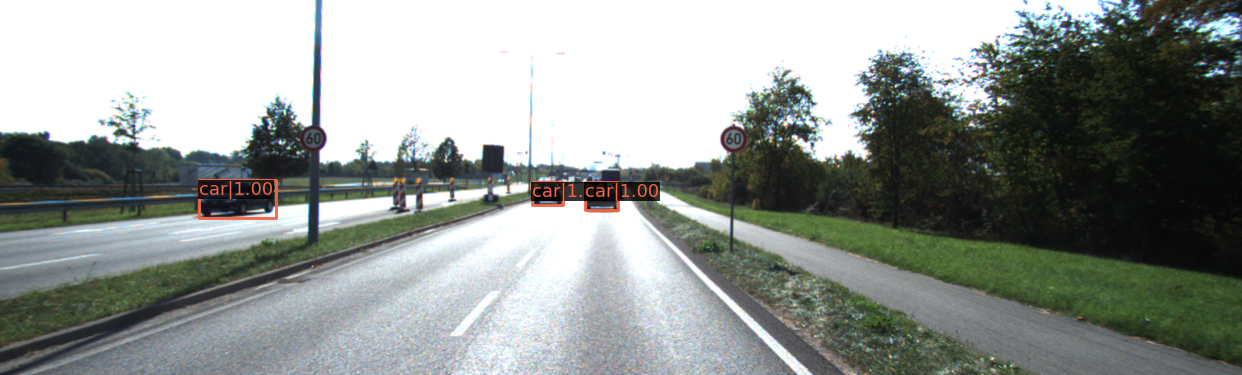car: (199, 182, 275, 217), (585, 185, 618, 211), (533, 183, 562, 206)
